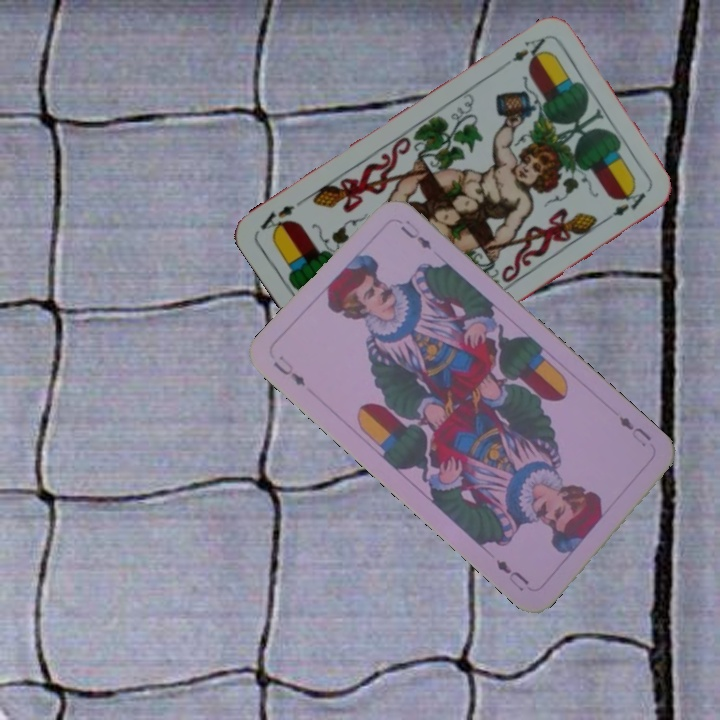EA: (507, 33, 550, 67)
EU: (614, 412, 654, 450), (269, 356, 309, 389)
